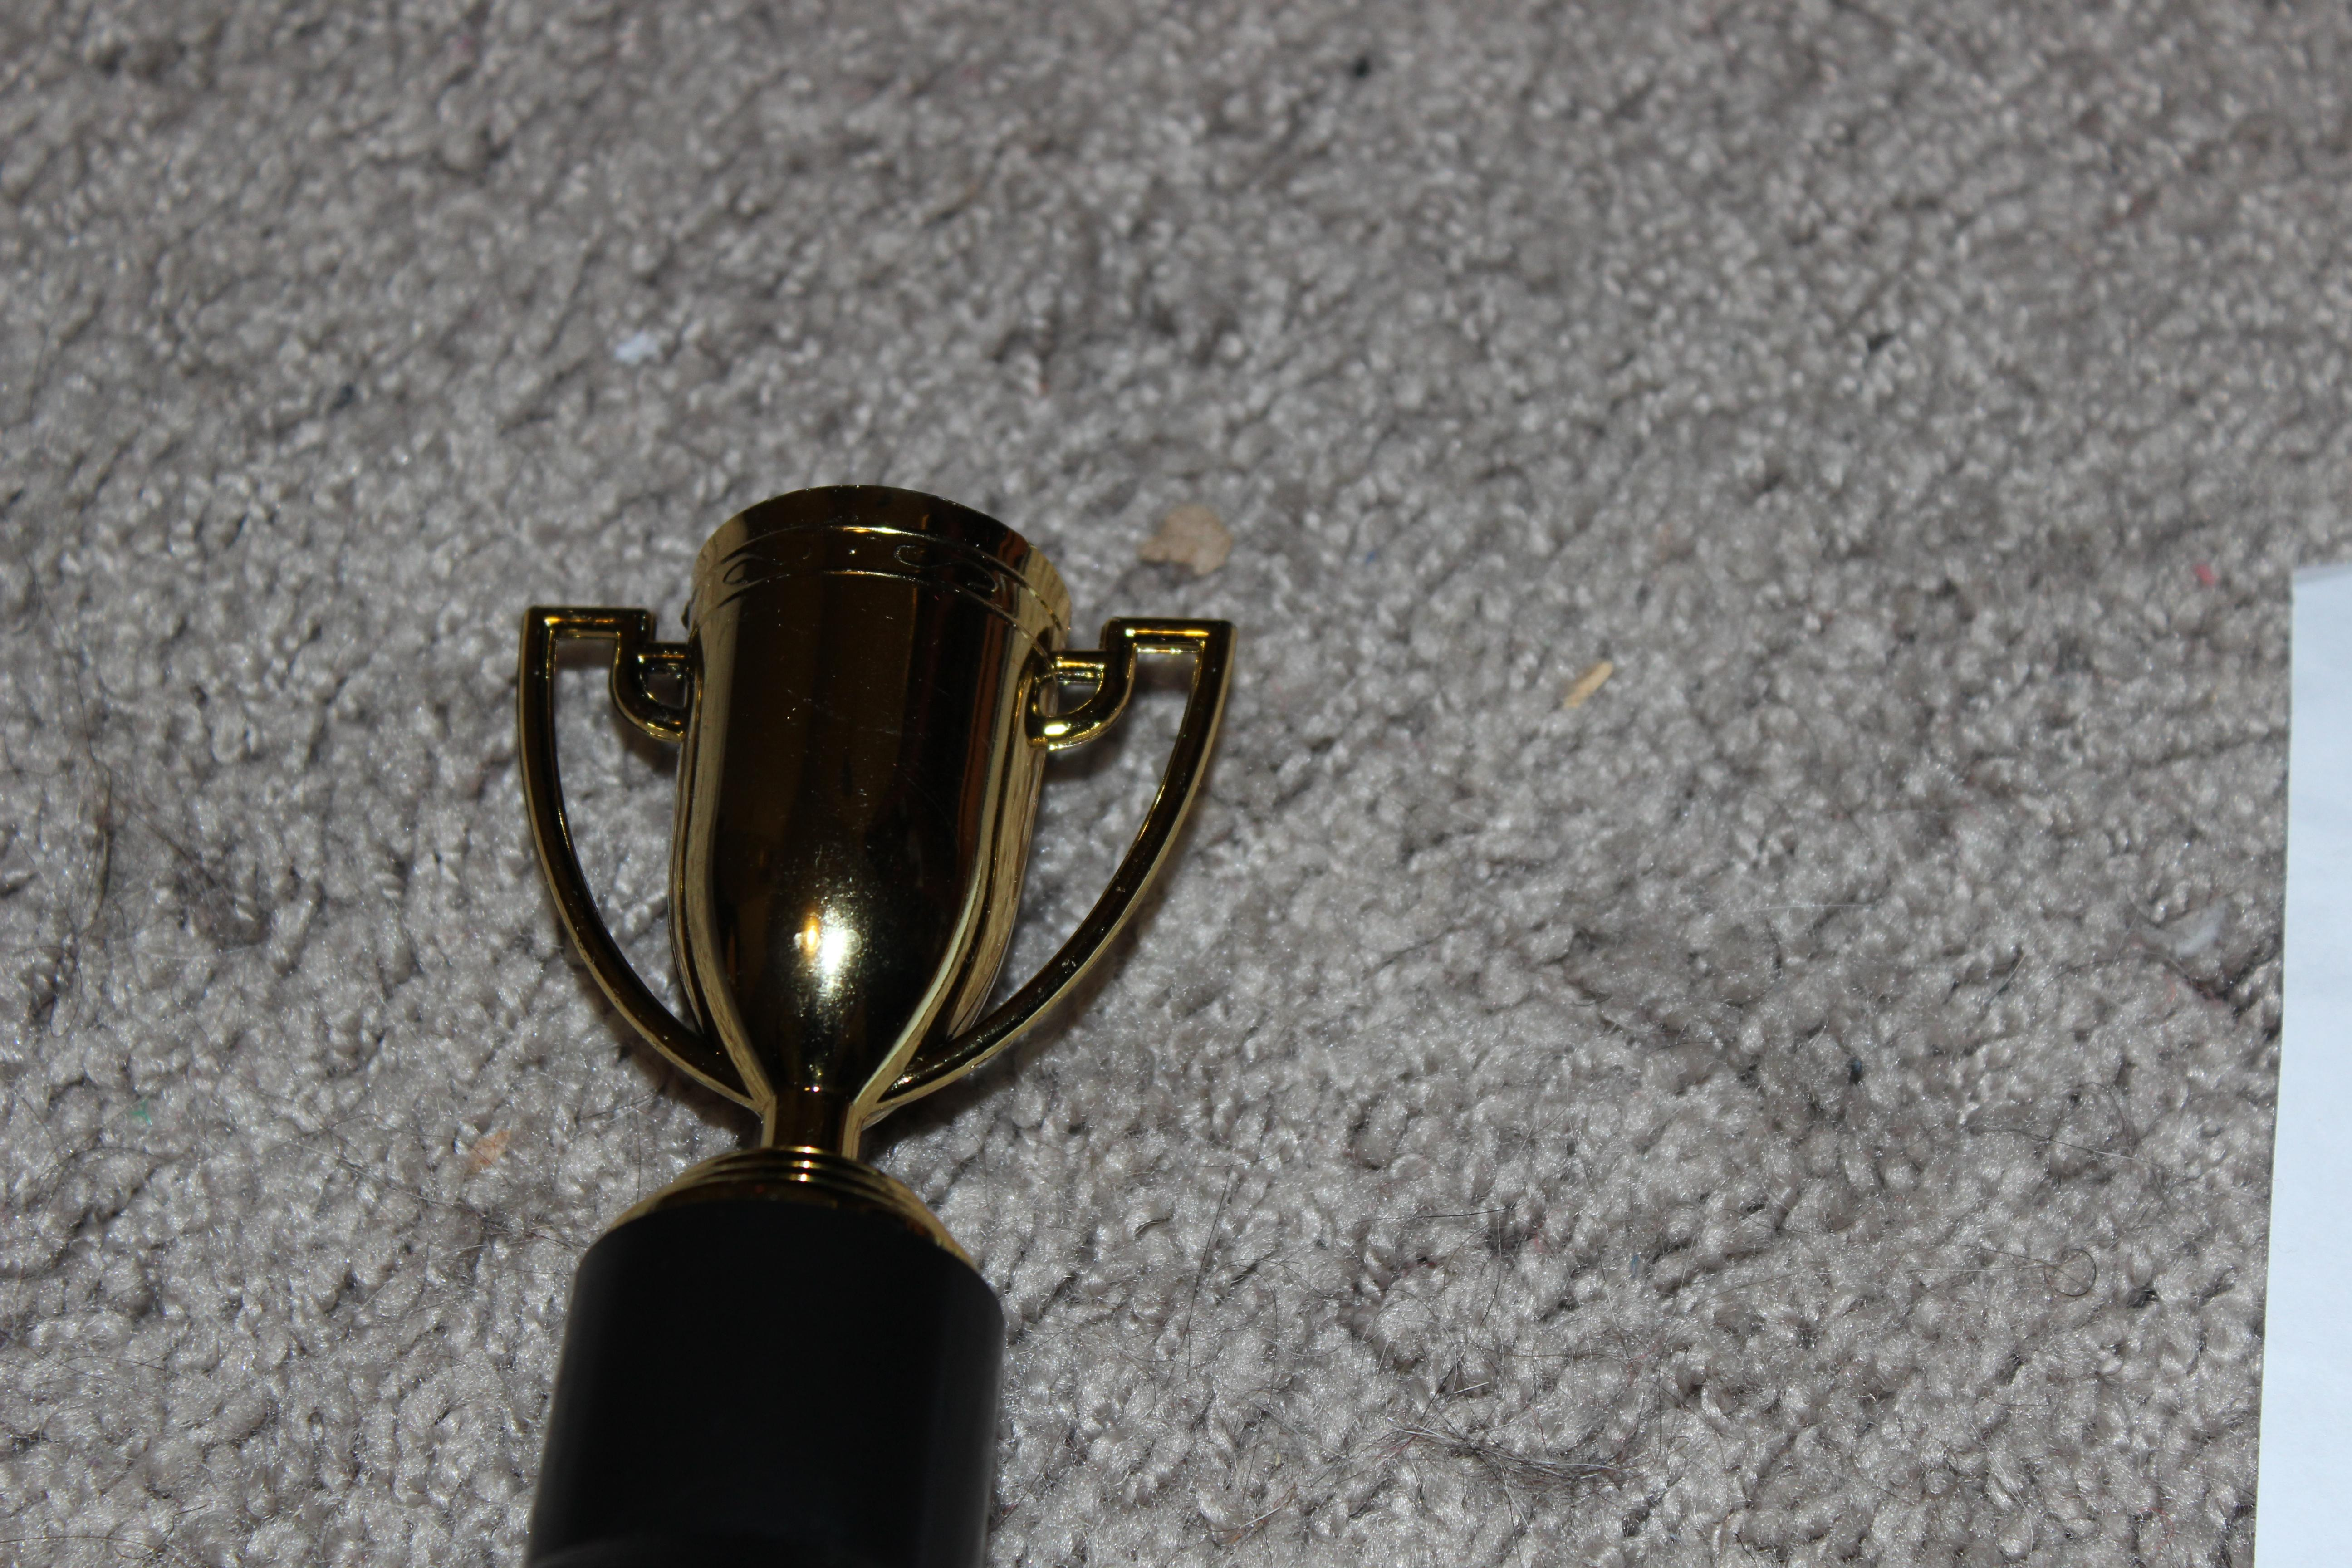trophy: (464, 448, 1288, 1568)
